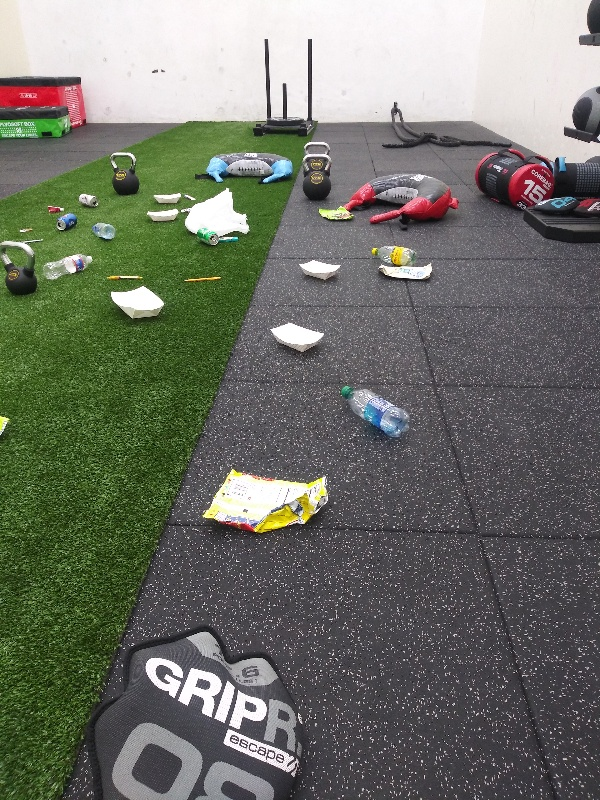bag: (199, 466, 334, 540), (373, 262, 437, 283), (312, 203, 357, 225)
bottle: (337, 379, 414, 444), (41, 250, 96, 282), (365, 243, 419, 265), (88, 217, 117, 244)
can: (51, 210, 81, 234), (189, 226, 222, 247), (69, 191, 100, 208)
plate: (105, 285, 170, 325), (267, 319, 325, 354), (292, 257, 345, 284), (142, 206, 182, 224), (150, 188, 185, 204)
